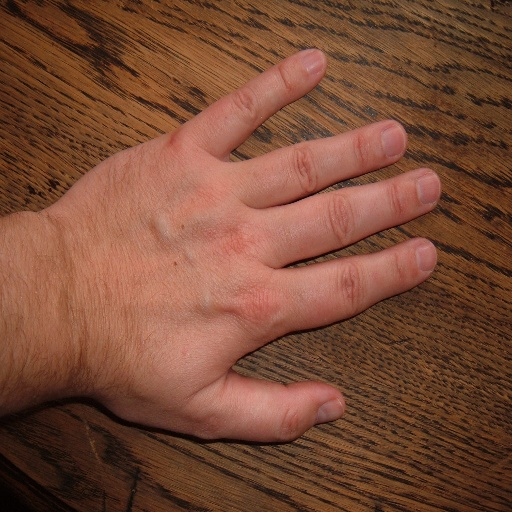hand: (45, 47, 440, 444)
